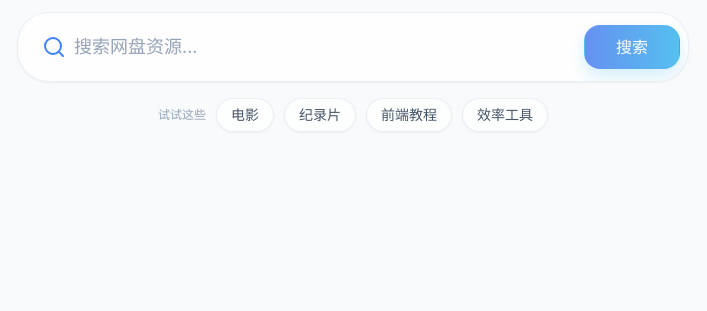
it: SearchBox › shows up to eight recent searches when the input is focused
The image size is (707, 311).
Click the field with placeholder "搜索网盘资源..." at (353, 47), box [18, 13, 688, 81]
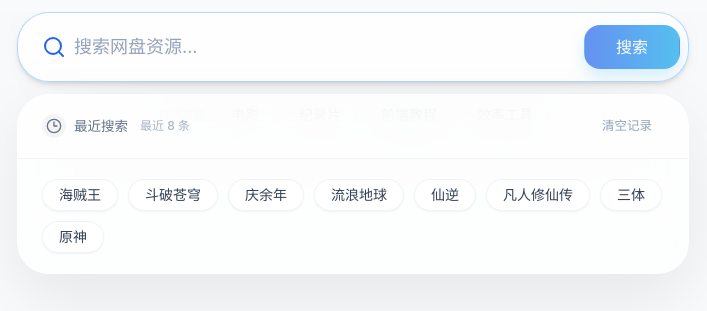
Expected: the text "最近搜索" is shown, [74, 116, 128, 137]
